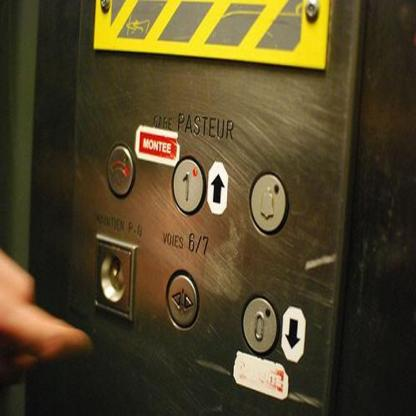0: (239, 291, 280, 356)
1: (171, 152, 206, 216)
alarm: (245, 167, 290, 238)
call: (107, 142, 133, 199)
open: (164, 264, 200, 332)
unknown: (90, 233, 136, 322)
